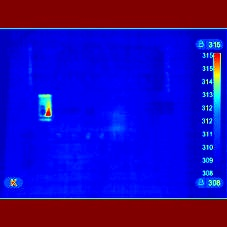Medium: (36, 93, 55, 122)
